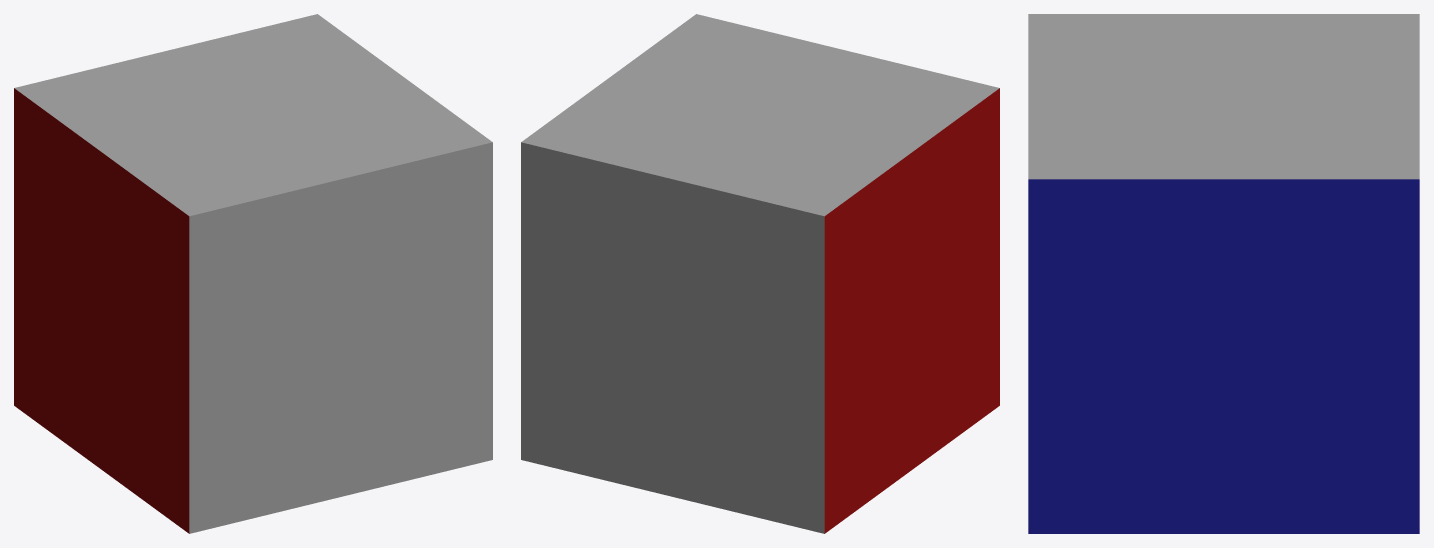
File: cornell.obj
3 renders of one model, left to right at view 1: azimuth 30°, elevation 25°; view 2: azimuth 150°, elevation 25°; view 3: azimuth 270°, elevation 25°, orthographic. The views are drawn at different scales.
Visible parts, largest first — view 1: Far_Plane.006, Left_Plane.003, Top_Plane; view 2: Near_Plane.004, Left_Plane.003, Top_Plane; view 3: Right_Plane.002, Top_Plane.
Part boxes in pixels (<box>): Far_Plane.006: <box>189,142,492,533</box>; Left_Plane.003: <box>14,88,189,533</box>; Top_Plane: <box>14,14,492,216</box>; Near_Plane.004: <box>521,142,824,533</box>; Left_Plane.003: <box>824,88,999,533</box>; Top_Plane: <box>521,14,999,216</box>; Right_Plane.002: <box>1028,179,1419,533</box>; Top_Plane: <box>1028,14,1419,179</box>.
Bounding box in the file's own units: 2 × 2 × 2.
